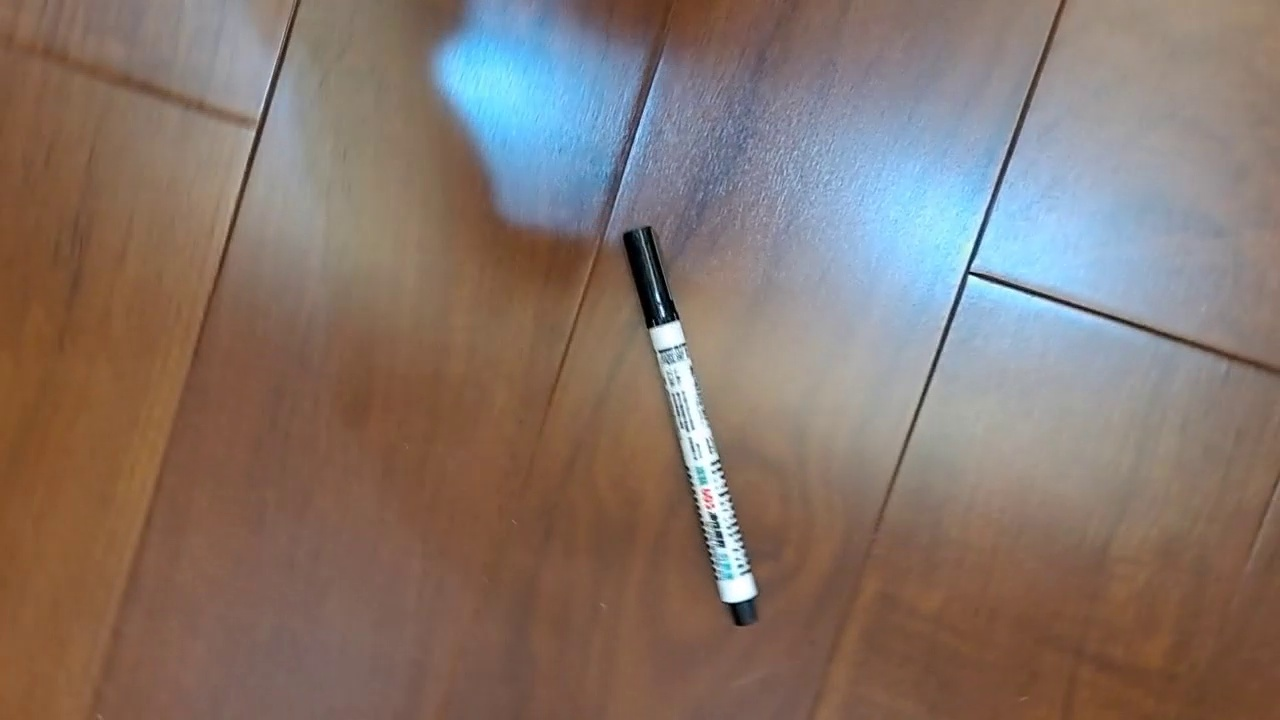pen: (621, 224, 762, 628)
